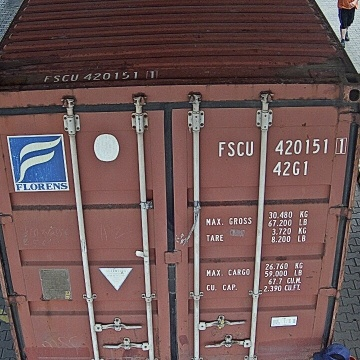serial_id: (219, 137, 346, 156)
